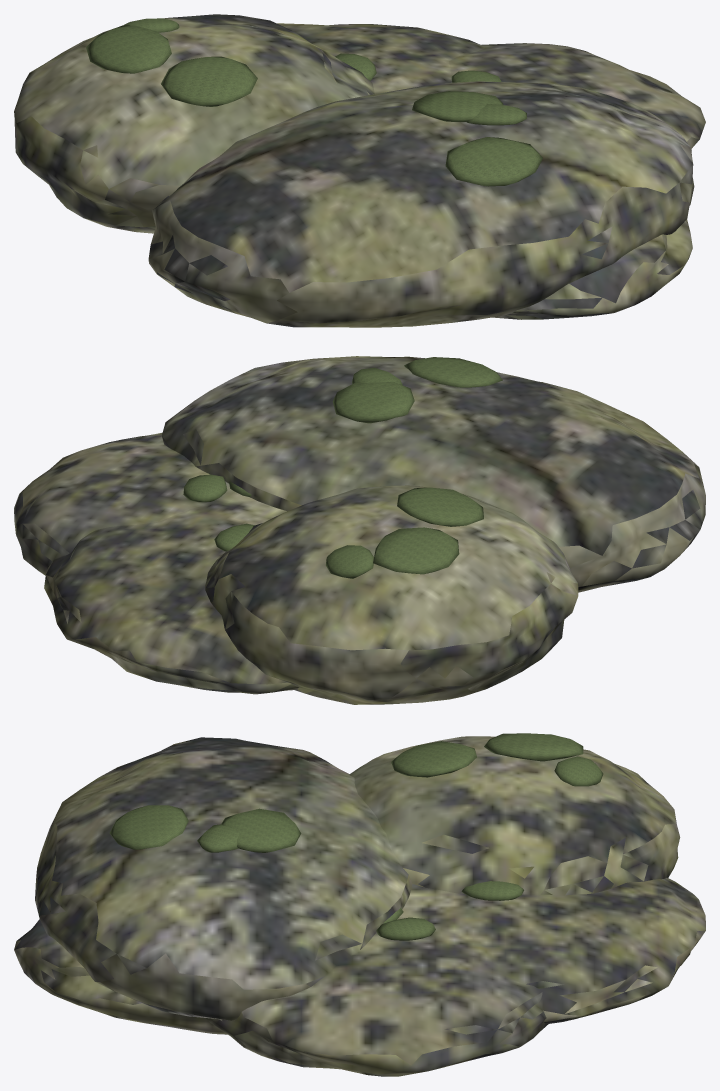
The model's file is v6_schist.glb.
3 renders of one model, top to bottom at view 1: azimuth 30°, elevation 25°; view 2: azimuth 150°, elevation 25°; view 3: azimuth 270°, elevation 25°, orthographic. The views are drawn at different scales.
Parts seen in each view (by area): view 1: sacred_weathered_stone_surface, sacred_velvet_moss_surface; view 2: sacred_weathered_stone_surface, sacred_velvet_moss_surface; view 3: sacred_weathered_stone_surface, sacred_velvet_moss_surface.
Boxes of the visible parts, left/top/right/bottom form: sacred_weathered_stone_surface: left=14, top=14, right=705, bottom=327; sacred_velvet_moss_surface: left=86, top=18, right=542, bottom=186; sacred_weathered_stone_surface: left=14, top=356, right=705, bottom=704; sacred_velvet_moss_surface: left=183, top=357, right=502, bottom=578; sacred_weathered_stone_surface: left=14, top=736, right=705, bottom=1076; sacred_velvet_moss_surface: left=109, top=733, right=603, bottom=940.
Size of the model in its own units: 0.6038 by 0.1557 by 0.6365.
Materials: 2 (2 with a texture image).
